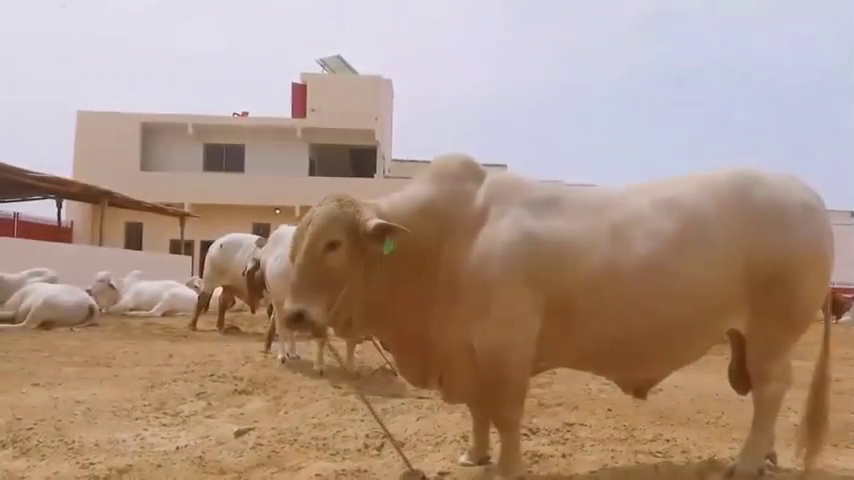bo: (273, 146, 845, 470), (243, 224, 361, 379), (190, 226, 266, 343), (89, 262, 197, 323), (2, 282, 102, 335), (181, 268, 228, 307), (2, 260, 59, 288)
